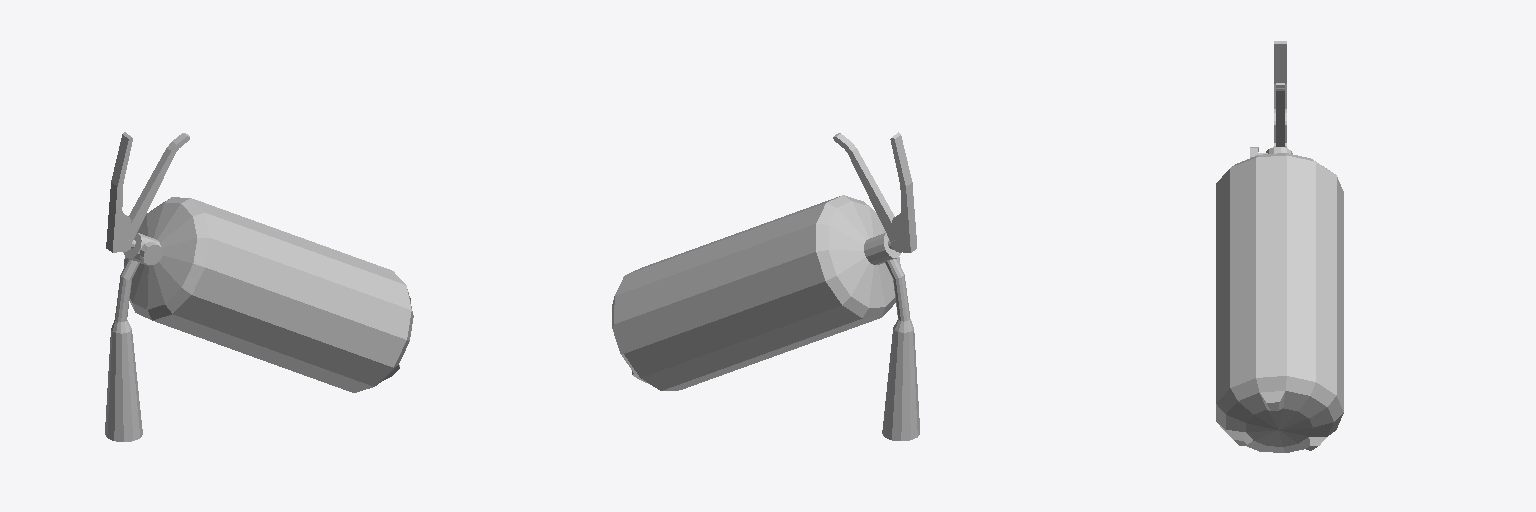
File: fire-extinguisher.obj
3 renders of one model, left to right at view 1: azimuth 30°, elevation 25°; view 2: azimuth 150°, elevation 25°; view 3: azimuth 270°, elevation 25°, orthographic.
Visible parts, largest first — view 1: fire_extinguisher:Mesh; view 2: fire_extinguisher:Mesh; view 3: fire_extinguisher:Mesh.
Boxes of the visible parts, x1=… form: fire_extinguisher:Mesh: x1=105, y1=132, x2=413, y2=441; fire_extinguisher:Mesh: x1=612, y1=132, x2=919, y2=440; fire_extinguisher:Mesh: x1=1216, y1=41, x2=1343, y2=452.
Bounding box in the file's own units: 8.37 × 8.17 × 3.1.